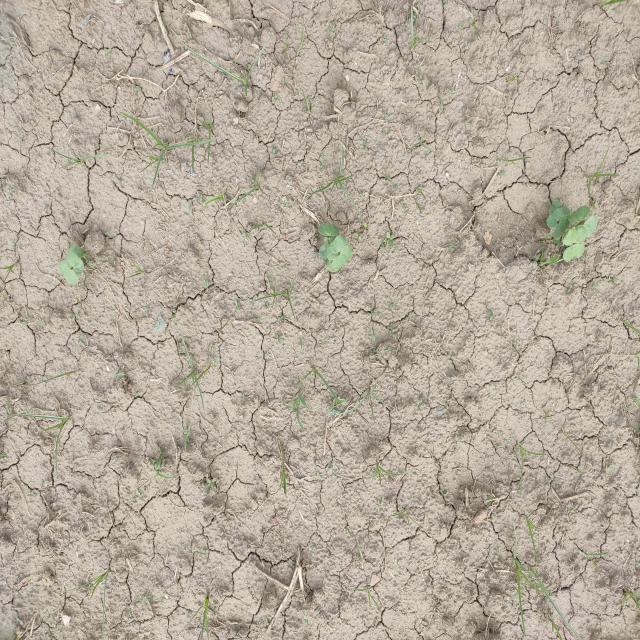seedling_s2: (562, 224, 586, 246), (59, 260, 79, 285), (326, 235, 346, 260), (551, 214, 570, 239), (332, 246, 352, 269), (563, 243, 585, 262), (66, 252, 84, 275), (546, 208, 565, 228), (568, 206, 590, 223), (583, 215, 597, 241), (319, 237, 334, 258), (318, 223, 339, 236), (69, 244, 83, 257), (325, 260, 339, 272), (549, 200, 561, 214), (560, 206, 571, 215), (322, 257, 331, 265)
